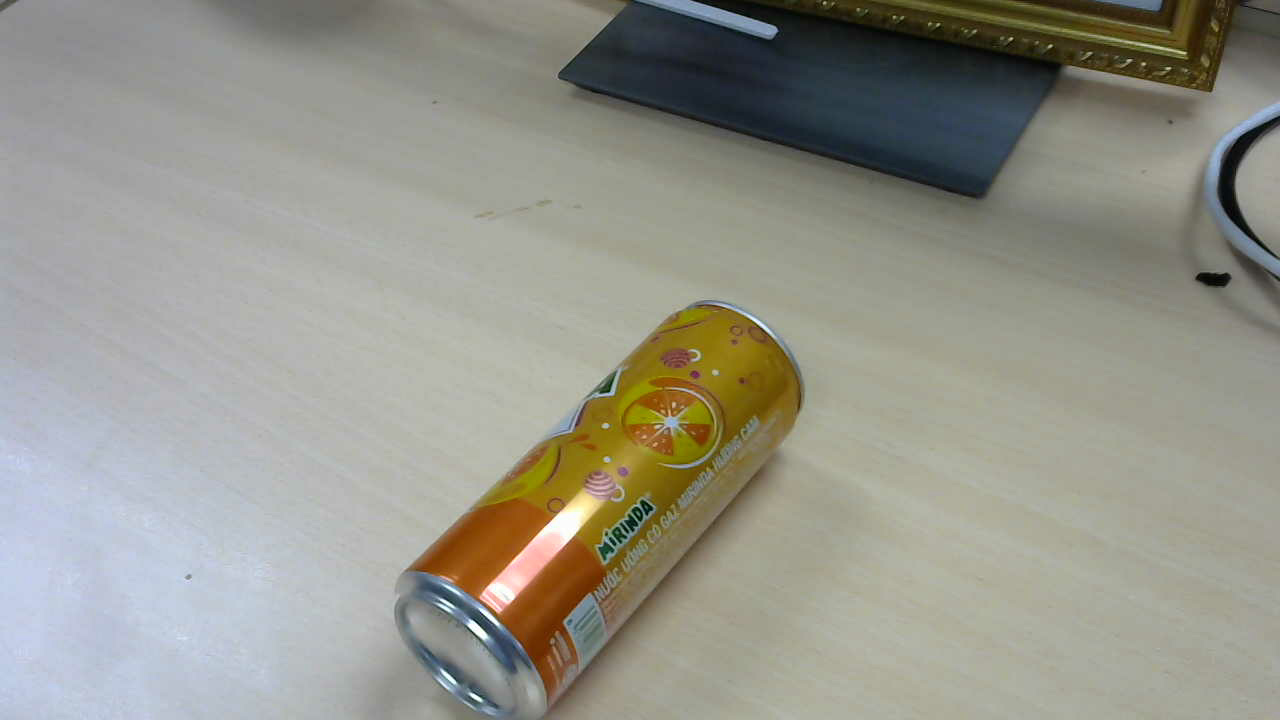Mirinda: (396, 300, 816, 698)
